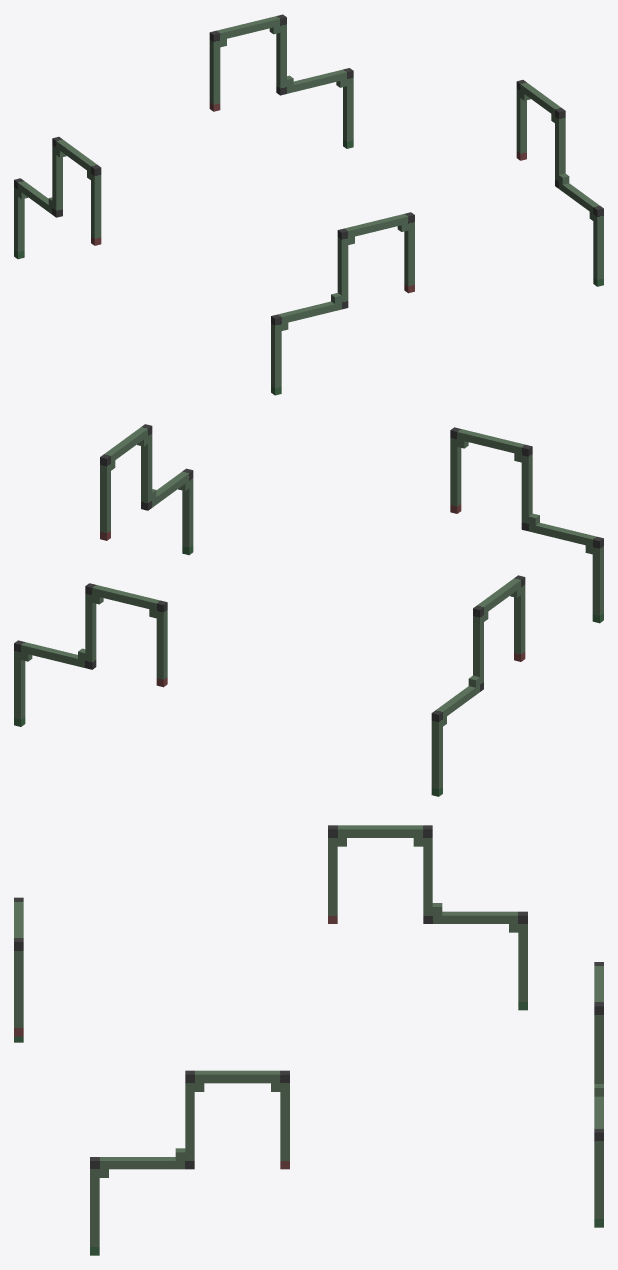
Rendered from pattern_2.glb.
3 renders of one model, top to bottom at view 1: azimuth 30°, elevation 25°; view 2: azimuth 150°, elevation 25°; view 3: azimuth 270°, elevation 25°, orthographic. The views are drawn at different scales.
Parts seen in each view (by area): view 1: crate_pattern_2; view 2: crate_pattern_2; view 3: crate_pattern_2.
Part boxes in pixels (x1,y1,x2,y2): crate_pattern_2: (14, 14, 603, 395); crate_pattern_2: (14, 424, 603, 796); crate_pattern_2: (14, 825, 603, 1255).
Size of the model in its own units: 6.2 by 2.1 by 6.2.
Materials: 1 (1 with a texture image).
